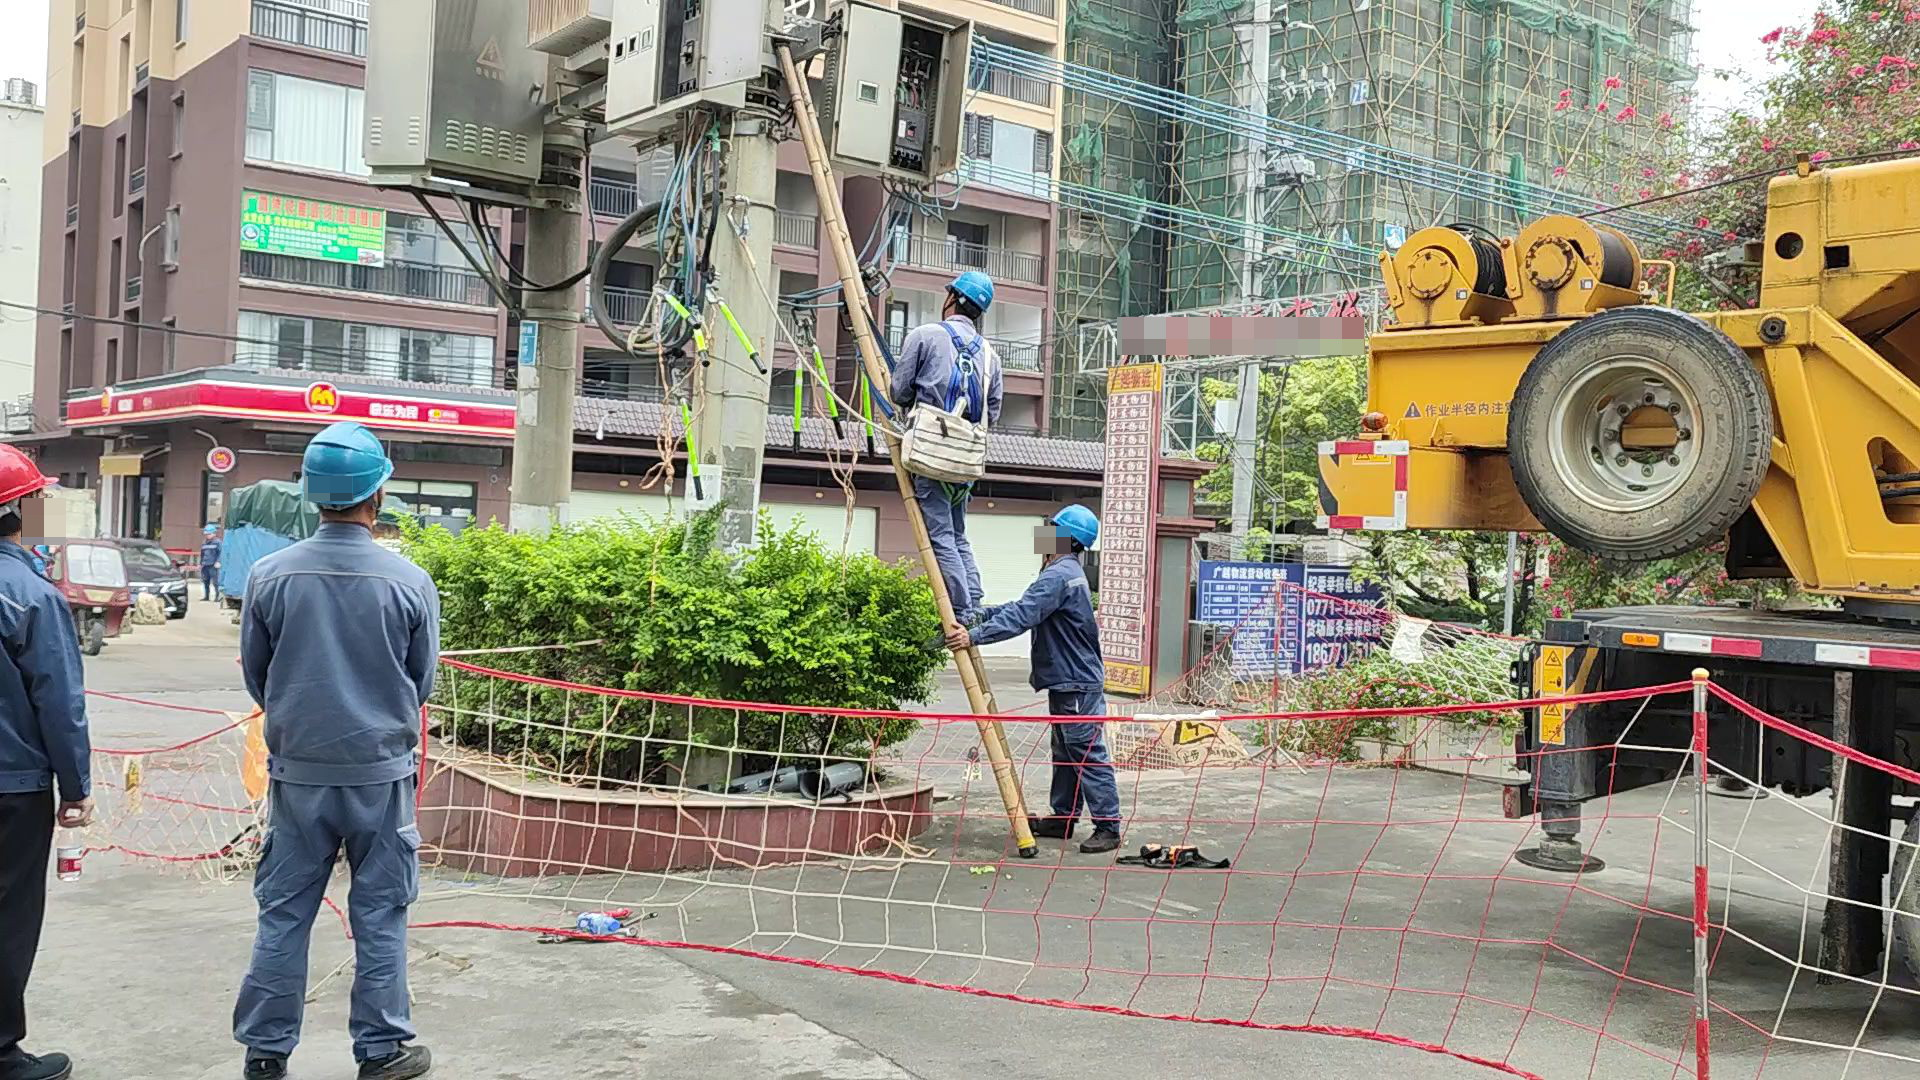downsuit: (234, 796, 423, 1062), (1010, 696, 1132, 848), (1, 805, 58, 1049), (920, 483, 982, 620)
halt: (301, 421, 394, 509), (1, 443, 56, 544), (1040, 503, 1100, 554), (944, 268, 994, 315)
hand: (943, 619, 974, 652)
inear: (10, 492, 51, 538), (362, 479, 401, 519), (1046, 520, 1076, 552), (942, 285, 967, 309)
person: (215, 424, 446, 1077), (1, 445, 108, 1078), (956, 520, 1136, 843), (877, 267, 1006, 637)
support: (942, 489, 1151, 866)
upsuit: (234, 524, 444, 776), (1, 540, 98, 800), (965, 553, 1108, 699), (970, 557, 1107, 683), (886, 314, 1007, 425)
